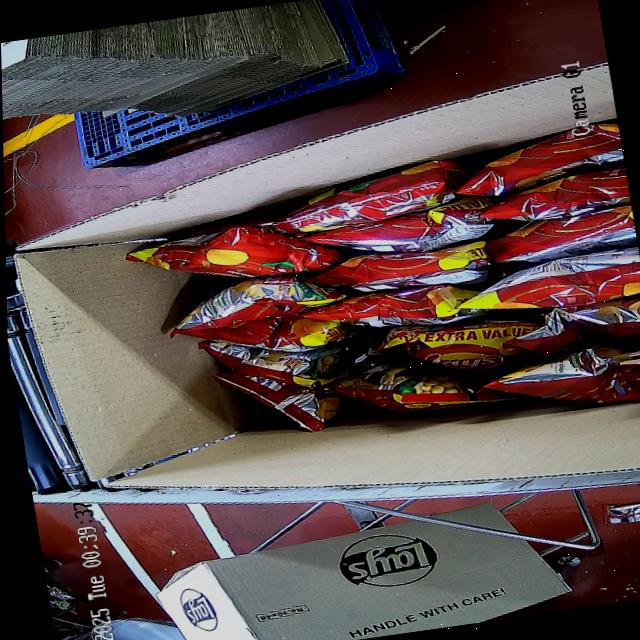MASALA: (116, 119, 640, 467)
